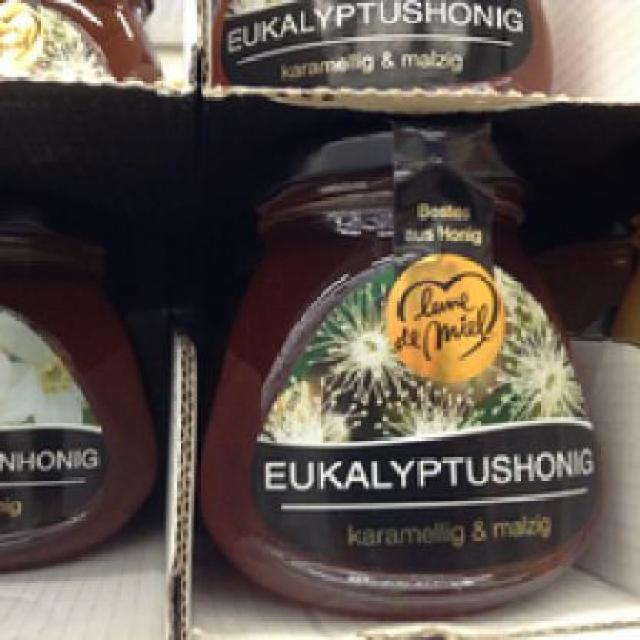Honey: (192, 122, 614, 618)
